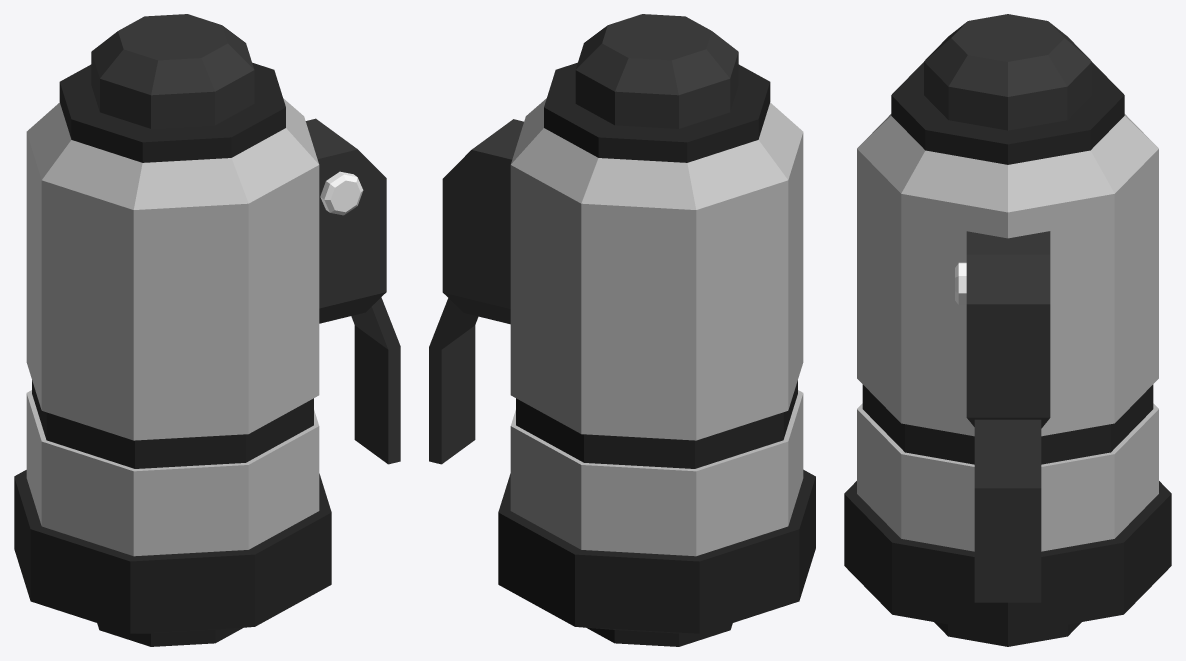
Rendered from Grenade_C_V2.FBX.
The picture shows the model from 3 angles, left to right: view 1: azimuth 30°, elevation 25°; view 2: azimuth 150°, elevation 25°; view 3: azimuth 270°, elevation 25°; orthographic projection.
Visible parts, largest first — view 1: Grenade_C_V2; view 2: Grenade_C_V2; view 3: Grenade_C_V2.
Boxes of the visible parts, box(x1,y1,x2,y2) form: Grenade_C_V2: box(14, 14, 400, 646); Grenade_C_V2: box(429, 14, 815, 646); Grenade_C_V2: box(844, 14, 1171, 646).
Size of the model in its own units: 33.13 by 51.51 by 26.68.
